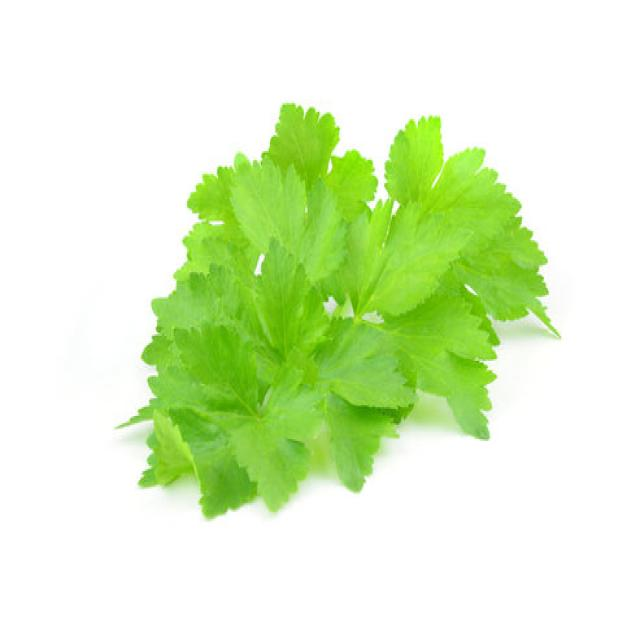Coriander Leaves: (116, 100, 560, 519)
